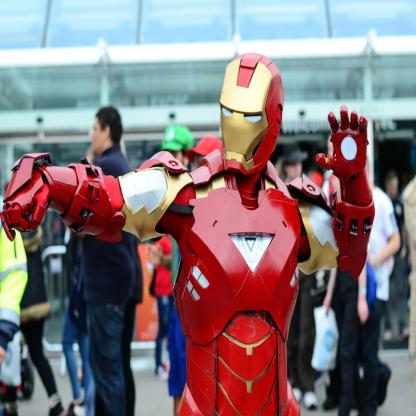Helmet: (216, 56, 284, 175)
